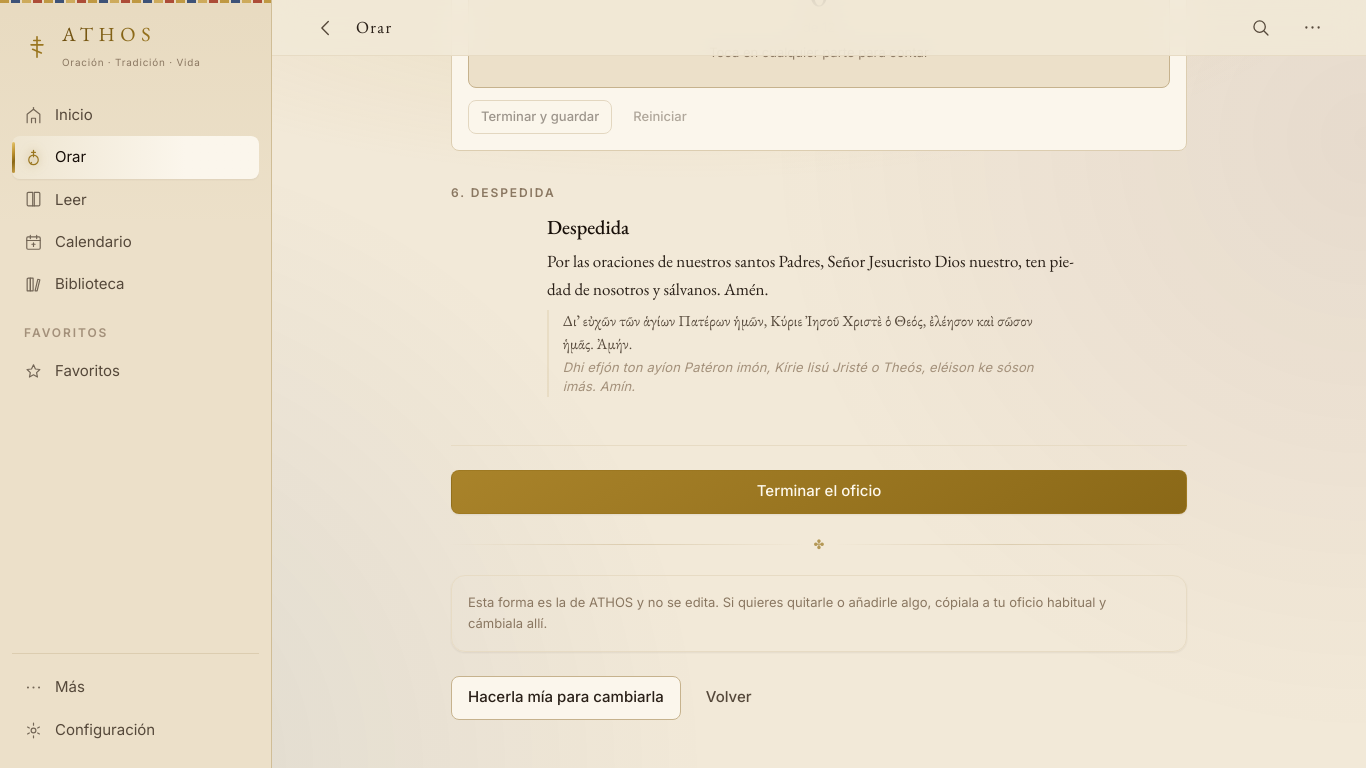
Test case: dentro del oficio › la breve trae la regla de san Serafín y no las oraciones largas, y queda rezada con su medida
(page scrolled)
Click the button "Terminar el oficio": (819, 492) [451,470,1187,514]
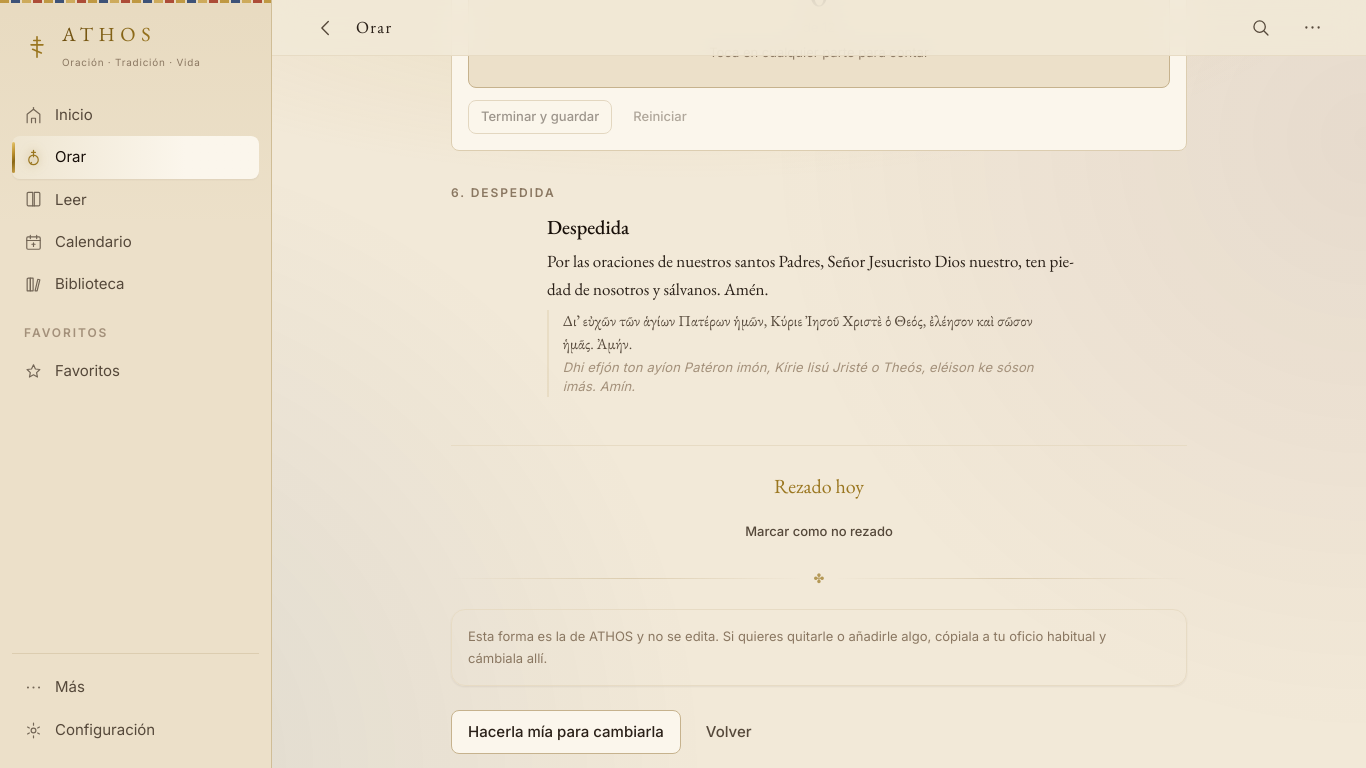
Result: the text "Rezado hoy" is shown at [774,473,864,499]
